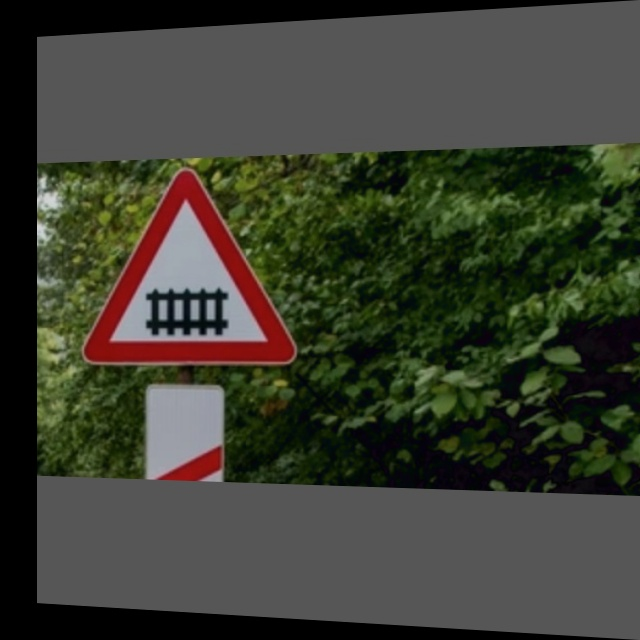Guarded_Level_Crossing: (85, 173, 291, 362)
